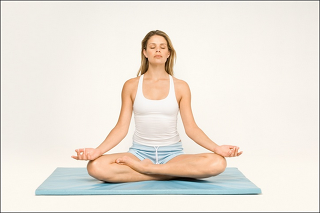hand: (69, 143, 104, 161), (214, 142, 243, 162)
